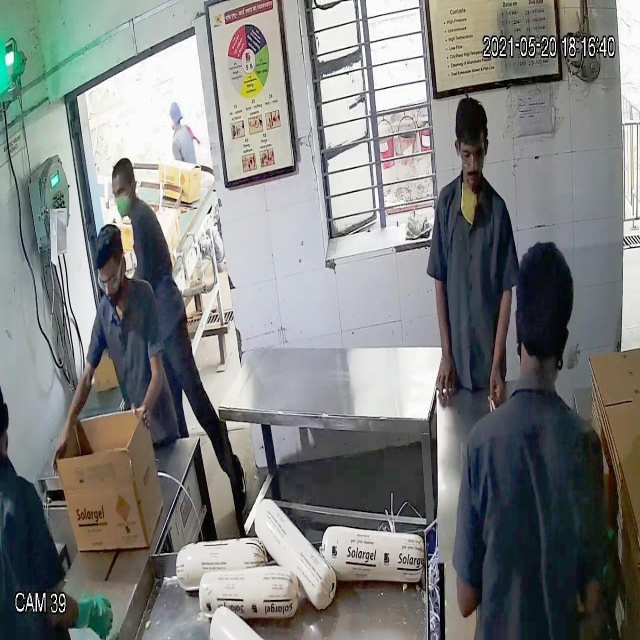Gafas: (453, 129, 495, 177), (92, 263, 126, 295)
